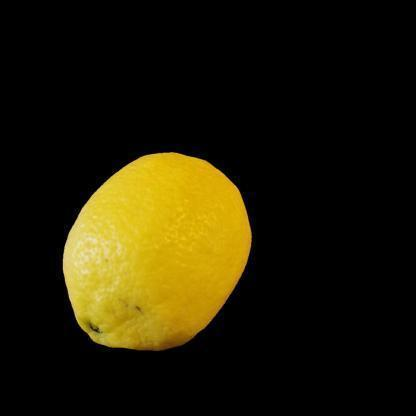lemon: (62, 151, 252, 352)
